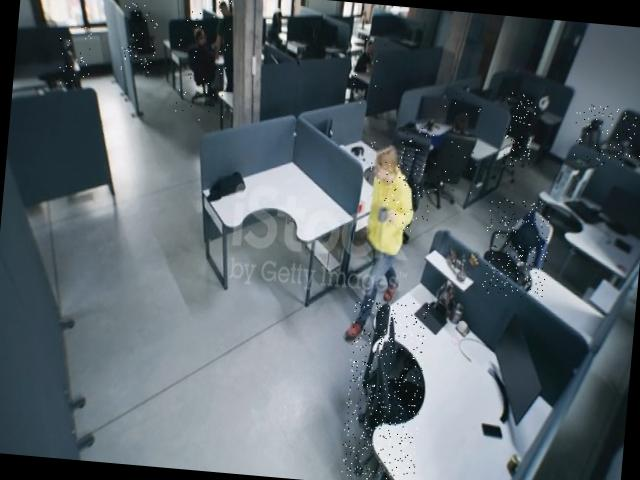empty chair: (339, 297, 428, 480), (481, 196, 551, 298), (384, 125, 435, 234), (572, 103, 640, 169), (119, 3, 159, 74), (54, 19, 94, 86), (503, 91, 537, 168)
occupiedchair: (172, 2, 233, 125), (429, 85, 483, 214), (338, 31, 386, 109)
